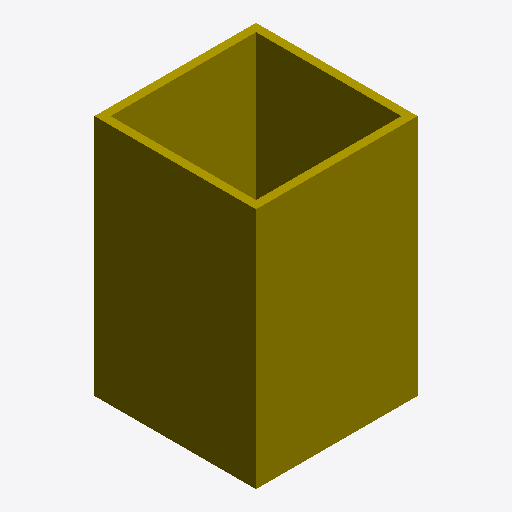
Isometric view (azimuth 45°, elevation 35.3°) of a Minecraft model made of 5 cuboids, textured from the same repository.
Parts seen in each view (by area): element 1, element 5, element 2, element 4, element 3.
Boxes of the visible parts, box(x1,y1,x2,y2) form: element 1: box(94, 111, 263, 395); element 5: box(94, 303, 417, 488); element 2: box(257, 116, 408, 390); element 4: box(248, 23, 417, 306); element 3: box(103, 28, 255, 199).
Bounding box in the file's own units: 2 × 3 × 2.